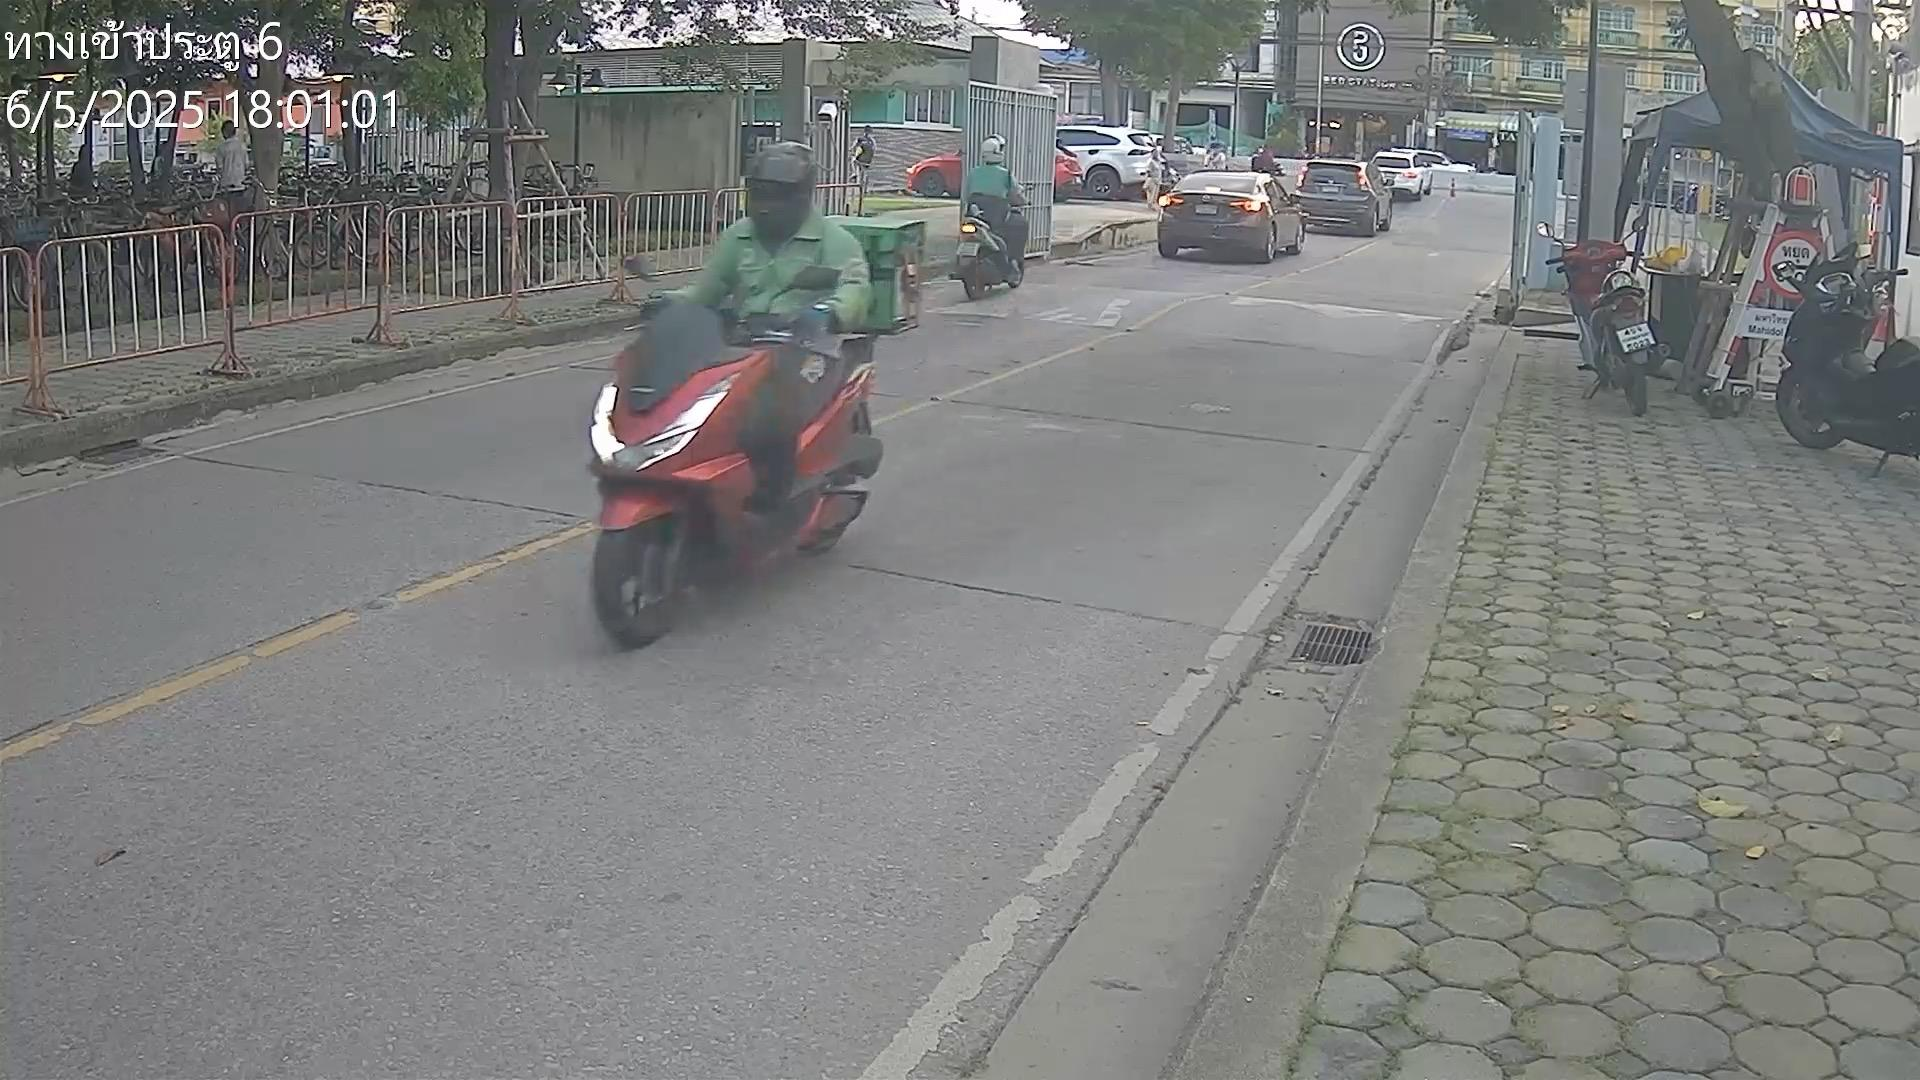With-Helmet: (744, 138, 819, 236), (978, 133, 1006, 165)
